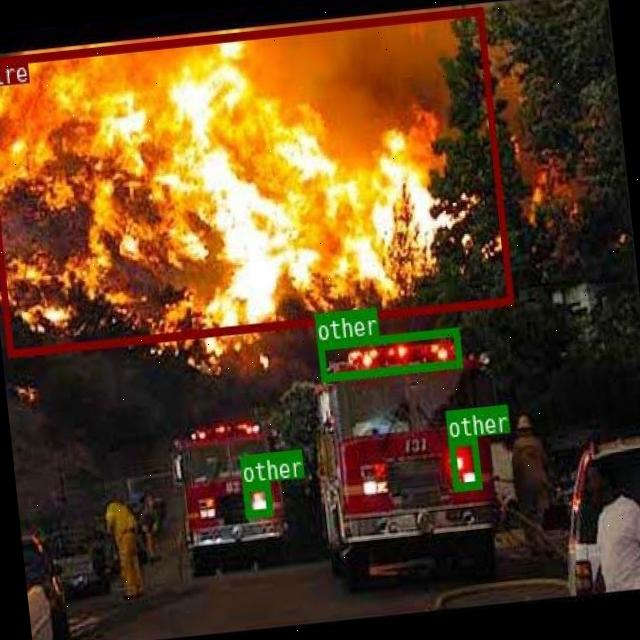fire: (0, 4, 511, 355)
